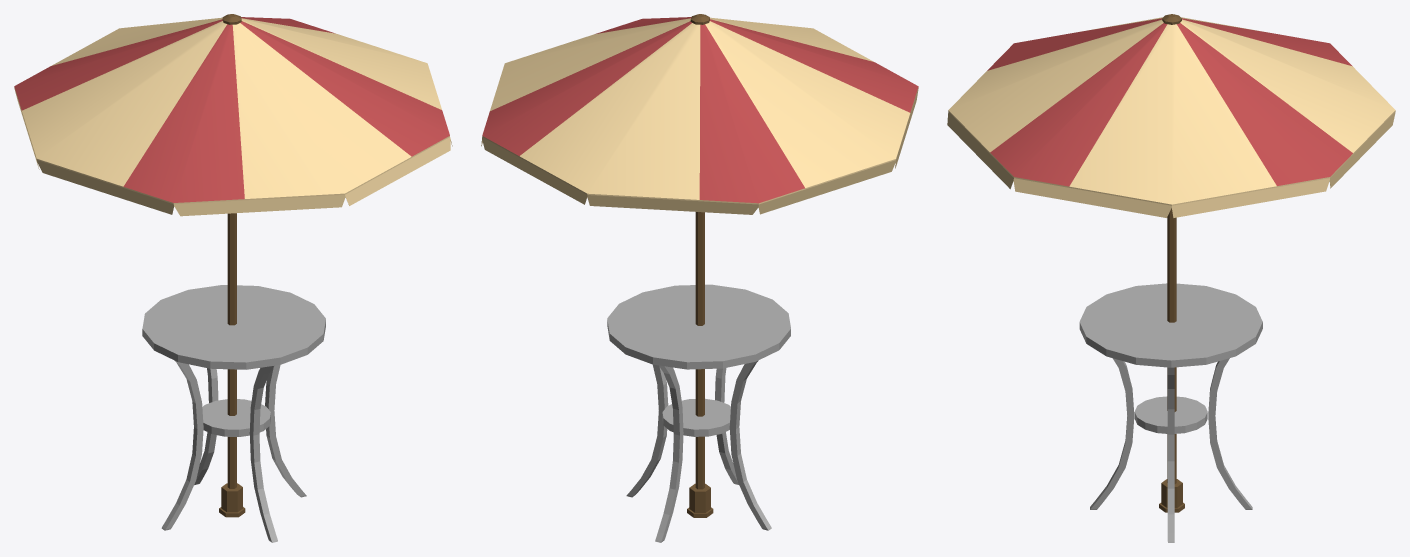
Rendered from Coffee Outside Table.fbx.
The picture shows the model from 3 angles, left to right: view 1: azimuth 30°, elevation 25°; view 2: azimuth 150°, elevation 25°; view 3: azimuth 270°, elevation 25°; orthographic projection.
Visible parts, largest first — view 1: Coffee Outside Table; view 2: Coffee Outside Table; view 3: Coffee Outside Table.
Boxes of the visible parts, box(x1,y1,x2,y2) form: Coffee Outside Table: box(14, 14, 452, 542); Coffee Outside Table: box(481, 14, 918, 542); Coffee Outside Table: box(947, 14, 1395, 542).
Bounding box in the file's own units: 284 × 284 × 345.
